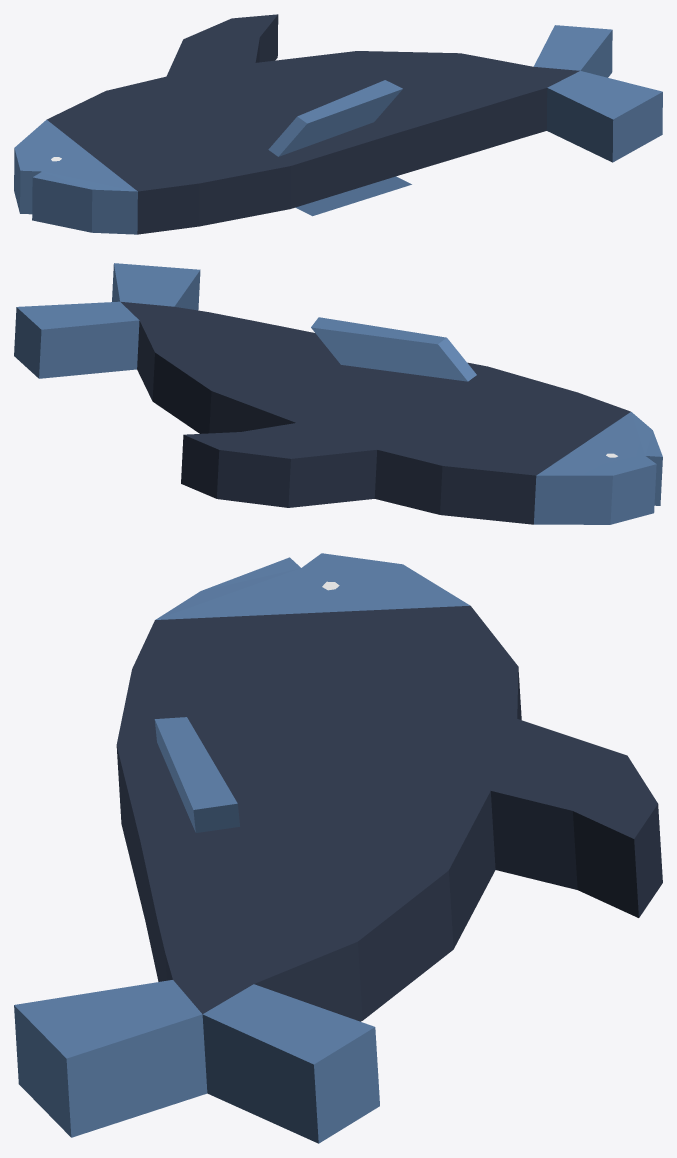
The model's file is fish.fbx.
The picture shows the model from 3 angles, top to bottom: view 1: azimuth 30°, elevation 25°; view 2: azimuth 150°, elevation 25°; view 3: azimuth 270°, elevation 25°; orthographic projection. The views are drawn at different scales.
Parts seen in each view (by area): view 1: fish; view 2: fish; view 3: fish.
Boxes of the visible parts, <box> form: fish: <box>14,14,662,234</box>; fish: <box>14,263,662,524</box>; fish: <box>14,553,662,1143</box>.
Size of the model in its own units: 208 by 34.68 by 112.
Materials: 1 (1 with a texture image).
